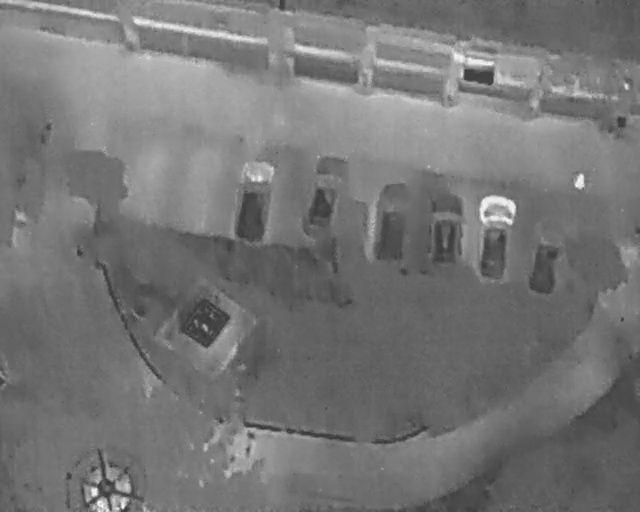Car: (469, 191, 521, 288), (298, 151, 351, 241), (227, 154, 277, 247), (369, 179, 415, 266), (425, 190, 466, 270), (524, 228, 568, 298)
Person: (571, 170, 588, 193)
